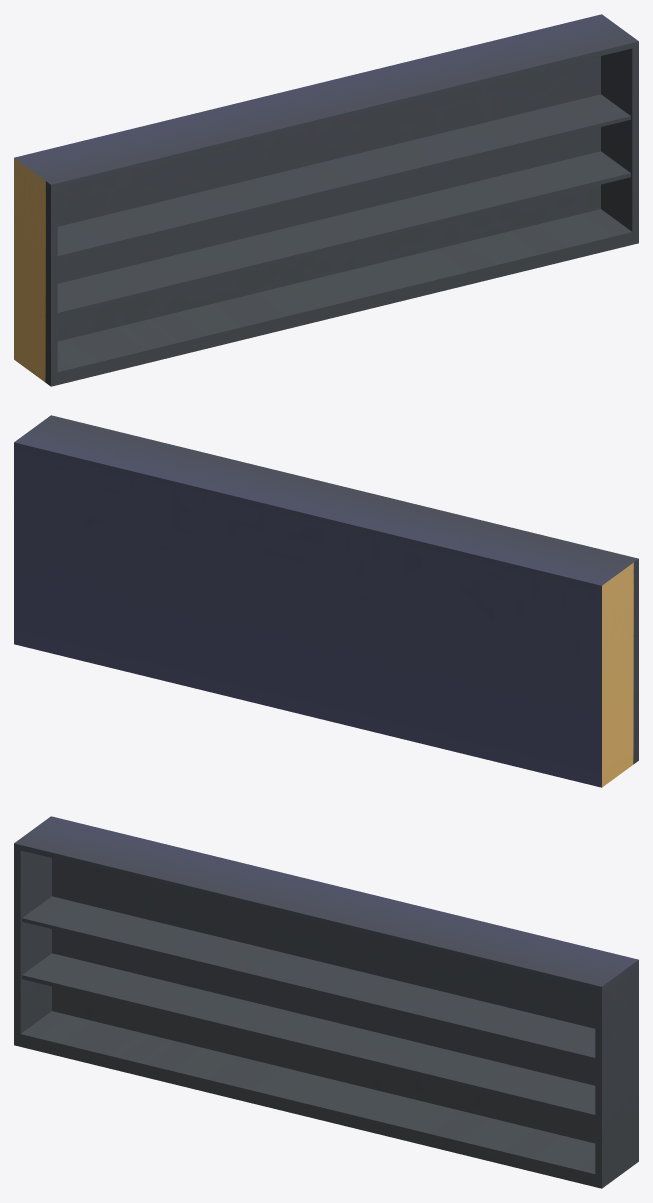
File: longshelf.fbx
3 views of the same model, one above another, from view 1: azimuth 30°, elevation 25°; view 2: azimuth 150°, elevation 25°; view 3: azimuth 330°, elevation 25° (orthographic).
Visible parts, largest first — view 1: Long_Shelf_longshelf; view 2: Long_Shelf_longshelf; view 3: Long_Shelf_longshelf.
Part boxes in pixels (<box>): Long_Shelf_longshelf: <box>14,14,638,386</box>; Long_Shelf_longshelf: <box>14,415,638,787</box>; Long_Shelf_longshelf: <box>14,816,638,1188</box>.
Size of the model in its own units: 14.95 by 4.91 by 1.63.
